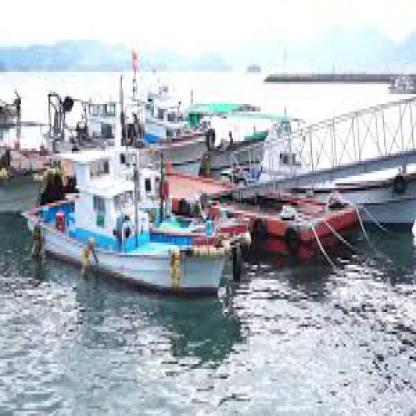fish-b: (21, 124, 237, 314)
